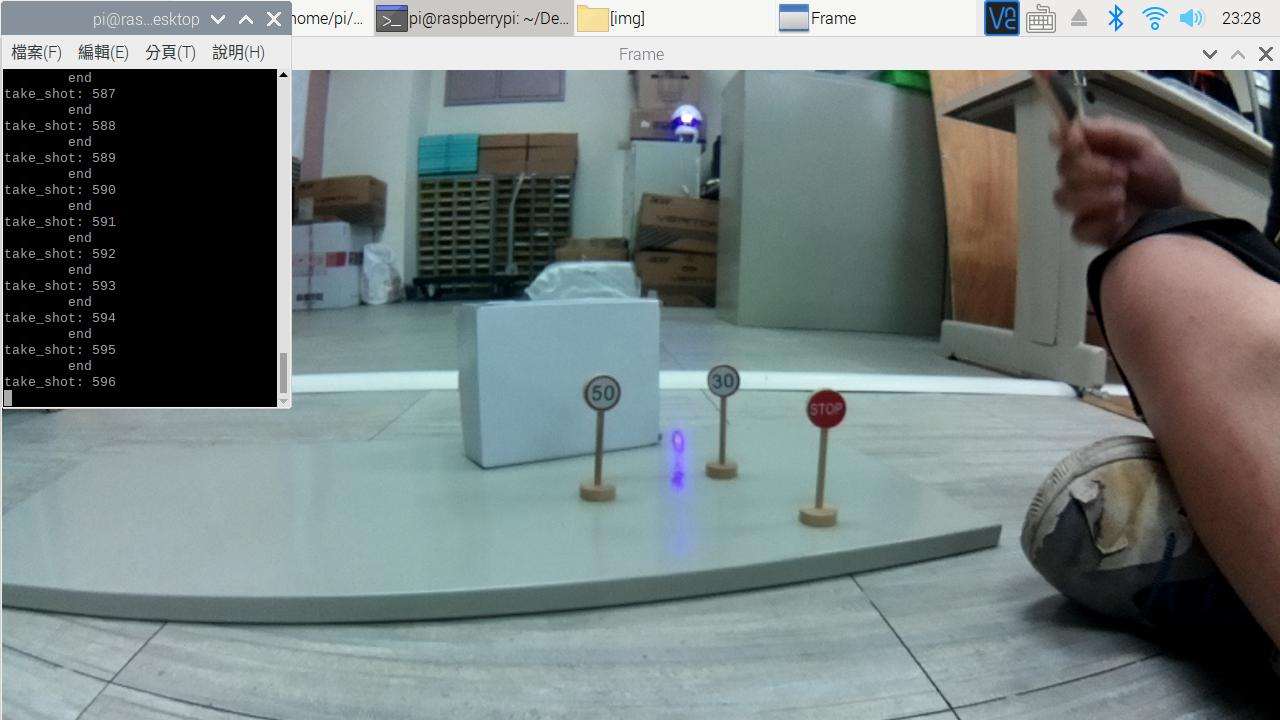Speed30: (698, 359, 752, 404)
Speed50: (577, 373, 633, 416)
Stop: (804, 385, 853, 436)
